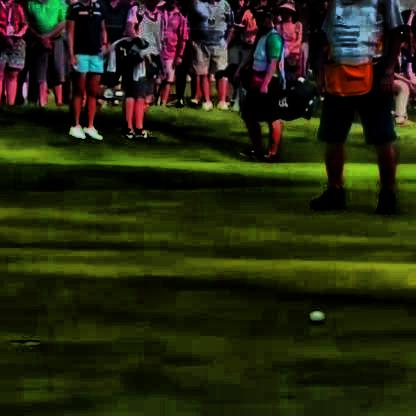golfball: (305, 312, 323, 323)
